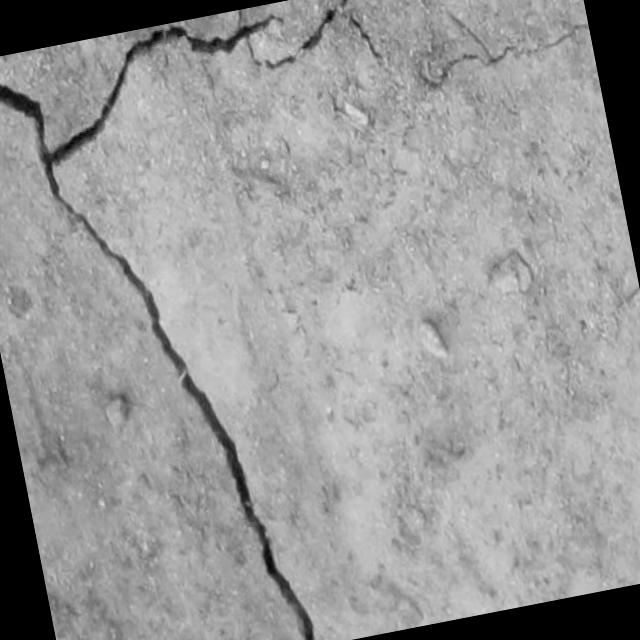crack: (0, 3, 402, 640), (280, 0, 593, 114)
